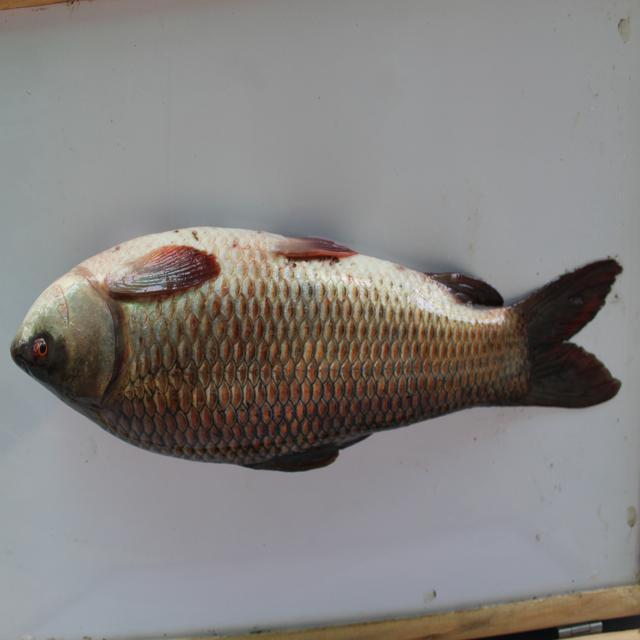Rohu: (1, 217, 628, 473)
